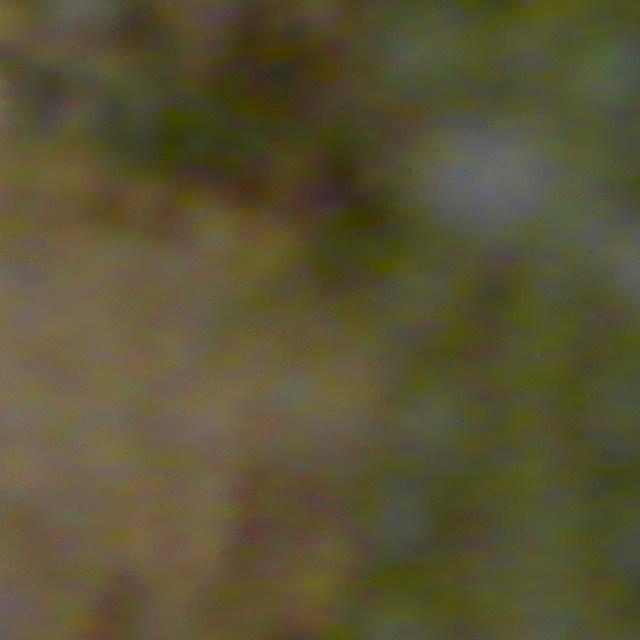SeaGrape: (373, 371, 496, 489), (382, 249, 488, 361), (392, 11, 487, 126), (347, 471, 456, 566)
